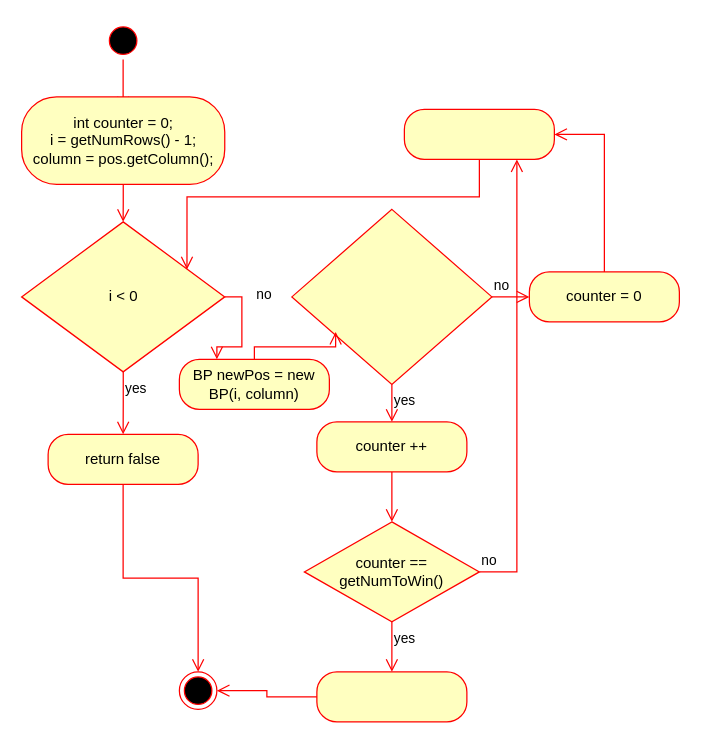
This 703x744 diagram has some shape labels left out. Each missing label, with the box of its shape:
i--: (403, 108, 554, 159)
isPlayerAtPos(newPos, p): (291, 208, 492, 384)
return true: (316, 671, 467, 722)
